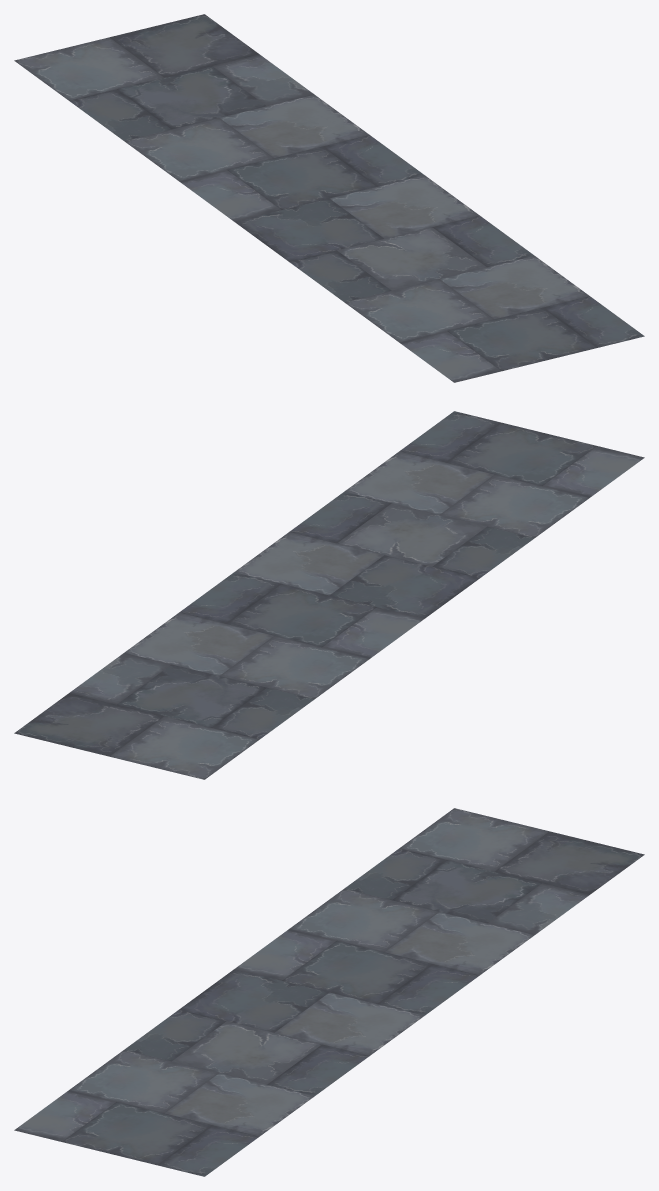
File: Castle Ground X Mix 2x8.fbx
The picture shows the model from 3 angles, top to bottom: view 1: azimuth 30°, elevation 25°; view 2: azimuth 150°, elevation 25°; view 3: azimuth 330°, elevation 25°; orthographic projection.
Parts seen in each view (by area): view 1: Castle Ground X Mix 2x8; view 2: Castle Ground X Mix 2x8; view 3: Castle Ground X Mix 2x8.
Boxes of the visible parts, x1,y1,x2,y2 form: Castle Ground X Mix 2x8: [14, 14, 644, 382]; Castle Ground X Mix 2x8: [14, 411, 644, 779]; Castle Ground X Mix 2x8: [14, 808, 644, 1176].
Bounding box in the file's own units: 1.5 × 9.95e-07 × 6.
